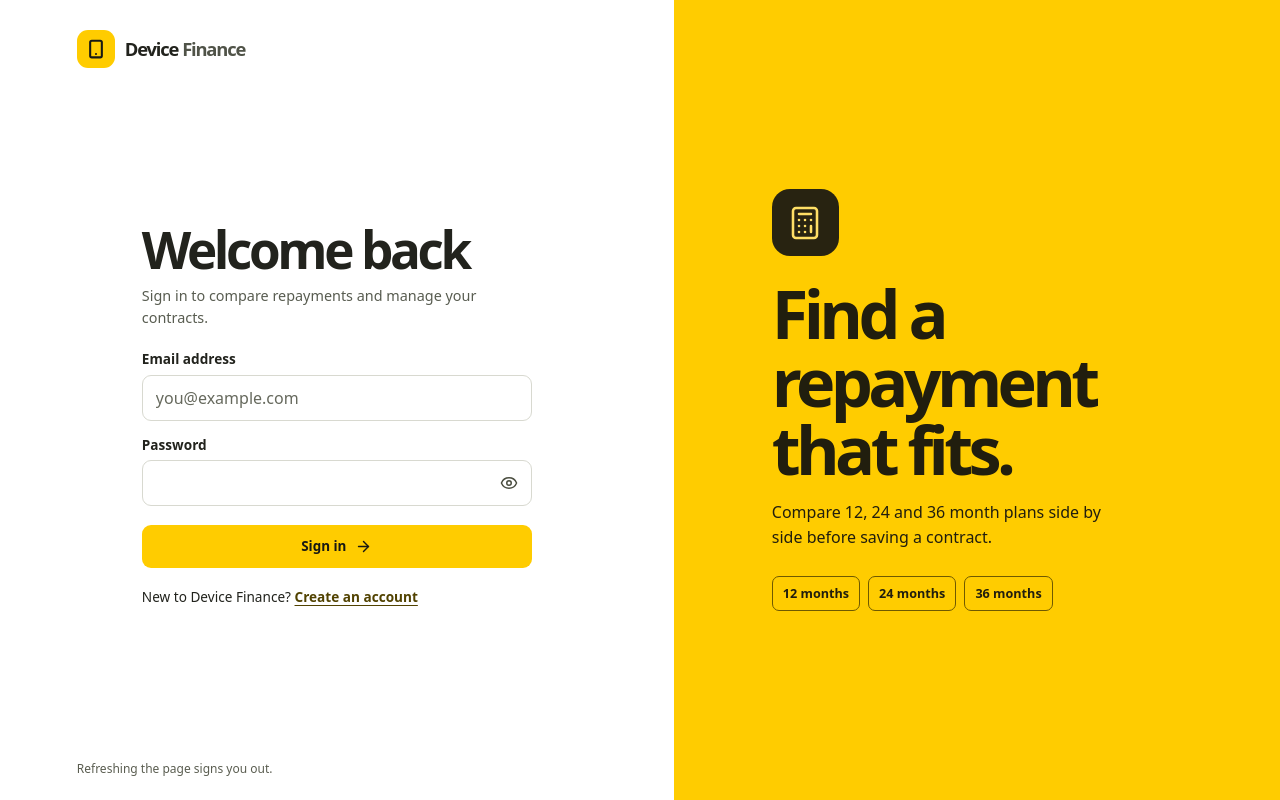
Scenario: account access › redirects protected routes and validates required login fields
Expected: the heading "Welcome back" is shown, [142,214,469,284]
Click the button "Sign in": (337, 546) [142,525,532,568]
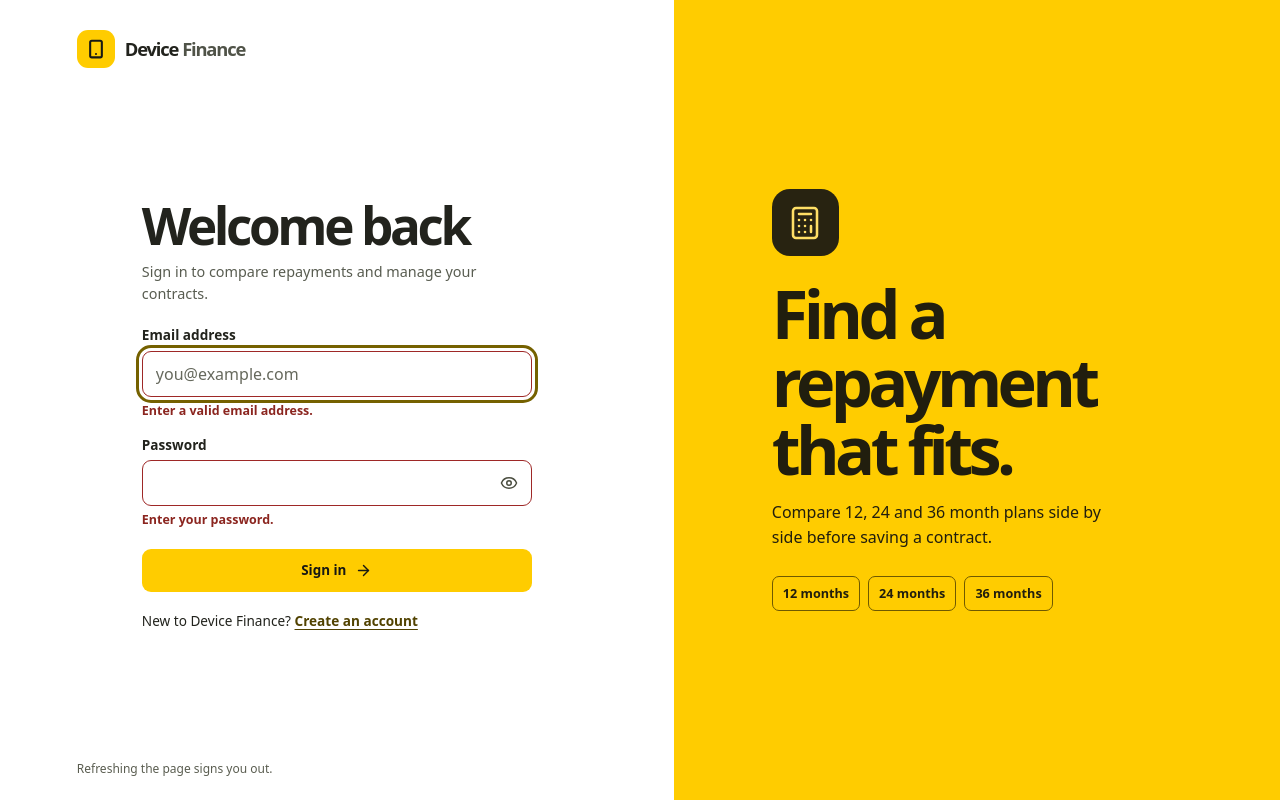
Expected: the text "Enter a valid email address." is shown, [142,402,313,419]
Expected: the text "Enter your password." is shown, [142,511,274,528]
